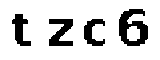6: (114, 5, 149, 48)
c: (82, 16, 109, 49)
t: (5, 11, 35, 50)
z: (44, 16, 75, 49)
